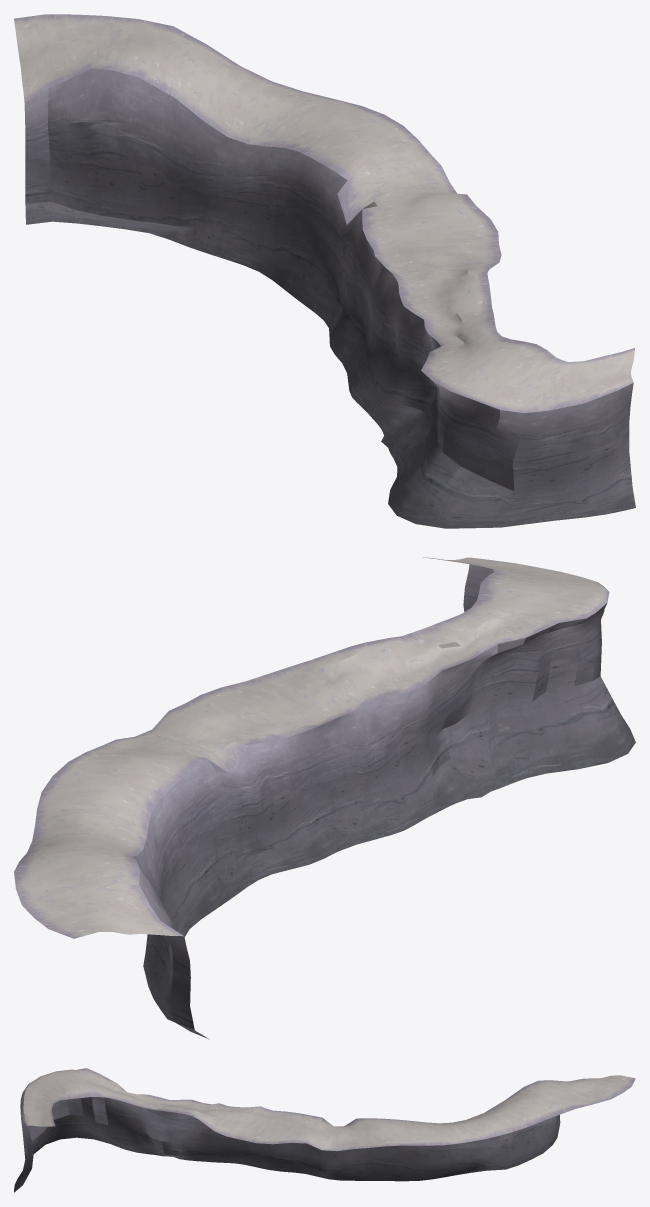
File: cliff_end.fbx
3 views of the same model, one above another, from view 1: azimuth 30°, elevation 25°; view 2: azimuth 150°, elevation 25°; view 3: azimuth 270°, elevation 25° (orthographic). The views are drawn at different scales.
Visible parts, largest first — view 1: cliff end; view 2: cliff end; view 3: cliff end.
Part boxes in pixels (<box>): cliff end: <box>14,14,635,528</box>; cliff end: <box>14,557,635,1039</box>; cliff end: <box>14,1068,635,1192</box>.
Size of the model in its own units: 3683 by 1839 by 11811.
